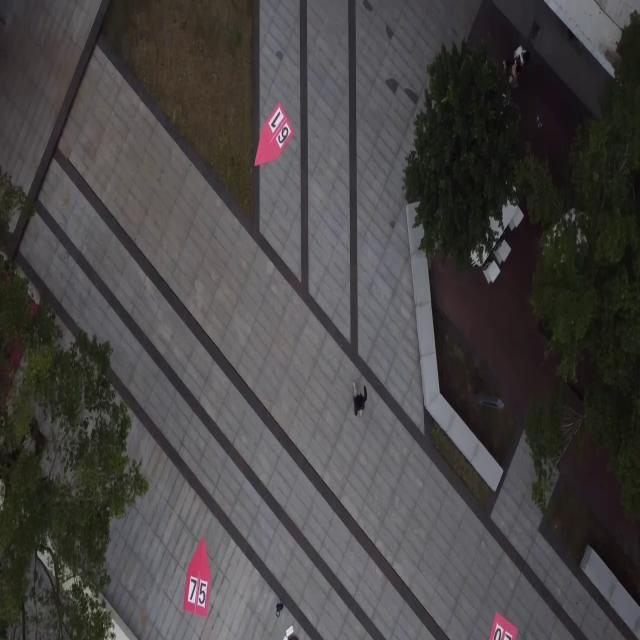-sign-: (253, 100, 294, 168), (184, 538, 211, 619), (490, 612, 519, 638)
